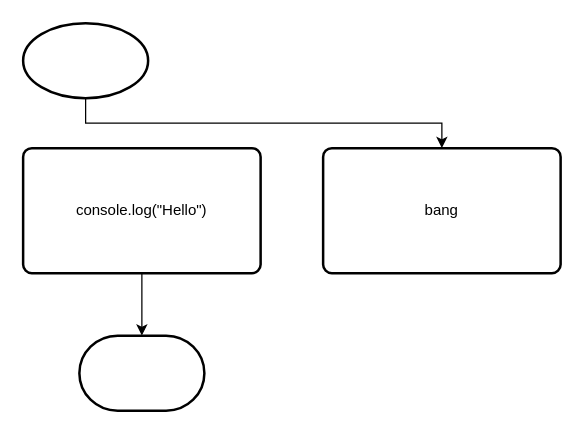
Some shapes in this 583 by 433 pixel diagram are drawn without their labels. Each missing label, with the box of its shape:
function: (21, 21, 149, 99)
return "poo": (78, 334, 205, 411)
